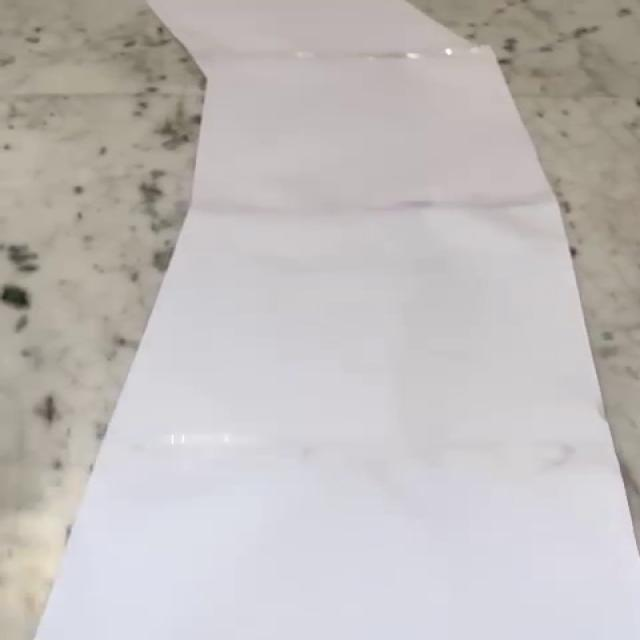road: (35, 0, 637, 640)
